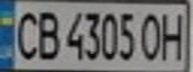0: (100, 8, 121, 61)
3: (81, 7, 103, 61)
4: (60, 7, 84, 61)
5: (115, 8, 142, 61)
B: (33, 6, 63, 62)
C: (6, 6, 42, 62)
H: (157, 8, 190, 61)
O: (136, 9, 166, 62)
